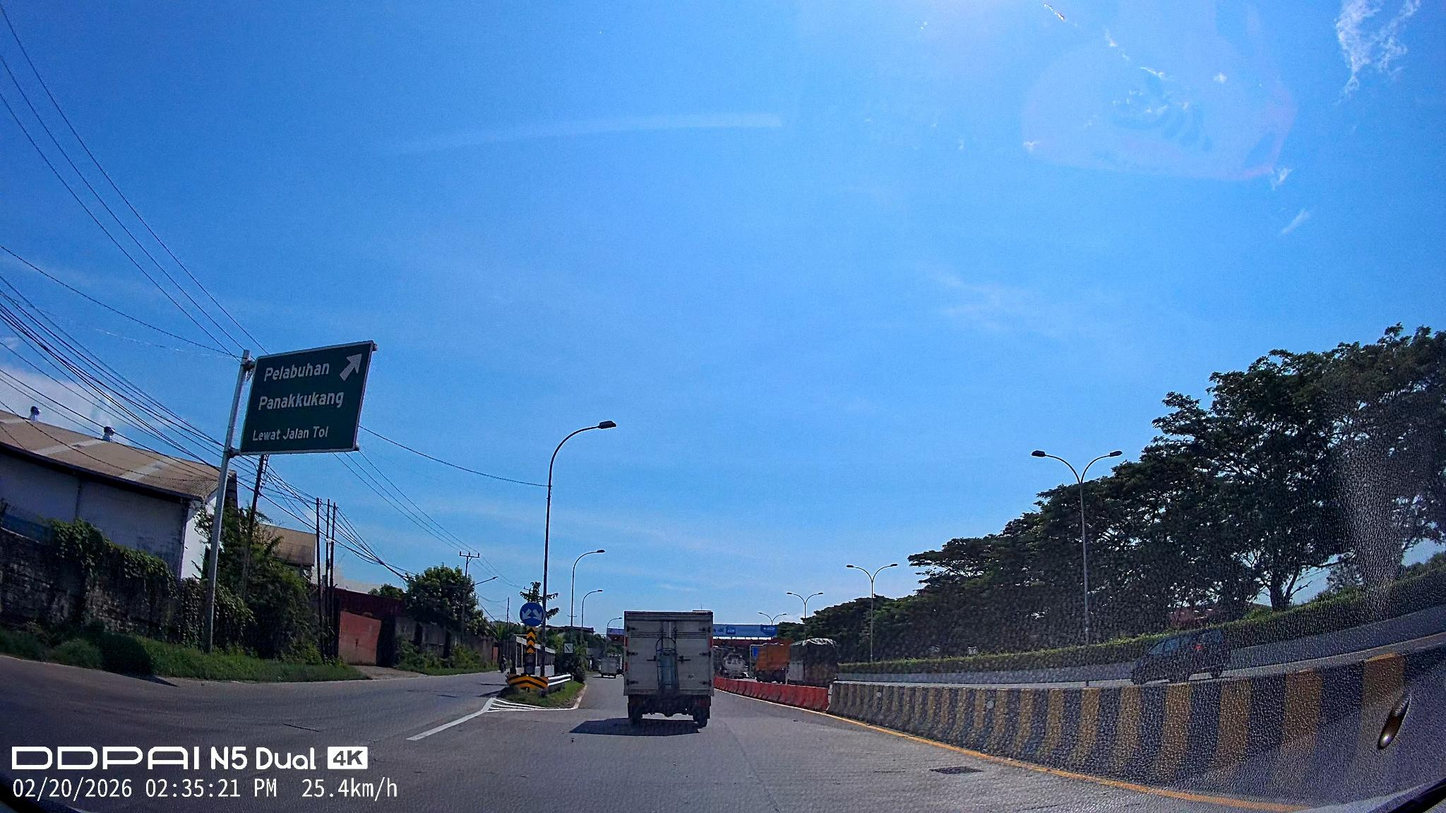rambu_teks: (238, 339, 375, 455)
